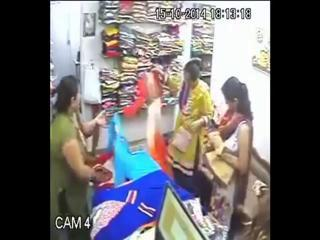Normal: (51, 75, 112, 238), (198, 76, 254, 238), (167, 58, 215, 187)
